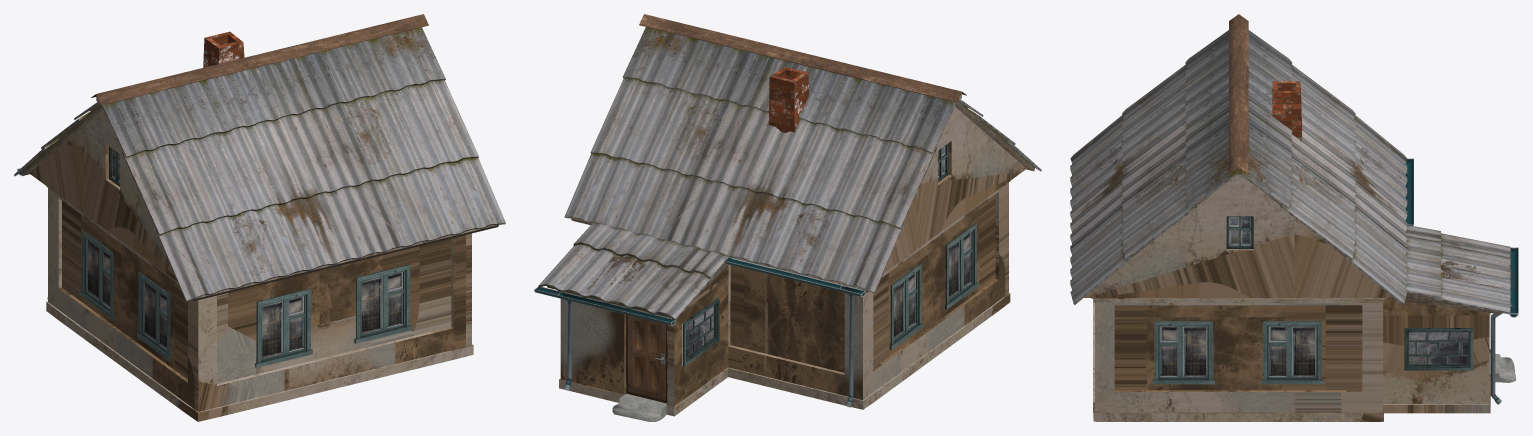
File: old russin house.fbx
3 renders of one model, left to right at view 1: azimuth 30°, elevation 25°; view 2: azimuth 150°, elevation 25°; view 3: azimuth 270°, elevation 25°, orthographic. The views are drawn at different scales.
Parts seen in each view (by area): view 1: defaultMaterial, Box003, defaultMaterial.001; view 2: defaultMaterial, Box003, defaultMaterial.001; view 3: defaultMaterial, Box003, defaultMaterial.001.
Part boxes in pixels (<box>): defaultMaterial: <box>14,14,505,301</box>; Box003: <box>29,95,473,421</box>; defaultMaterial.001: <box>80,146,411,367</box>; defaultMaterial: <box>534,14,1041,407</box>; Box003: <box>559,93,1026,416</box>; defaultMaterial.001: <box>612,143,978,421</box>; defaultMaterial: <box>1070,14,1518,404</box>; Box003: <box>1084,168,1490,421</box>; defaultMaterial.001: <box>1152,216,1515,384</box>.
Size of the model in its own units: 5736 by 4663 by 7098.
